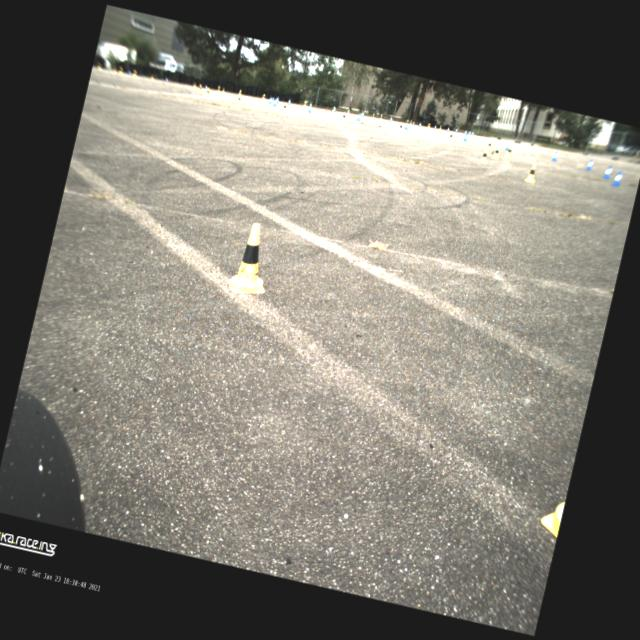blue_cone: (611, 170, 622, 187), (602, 163, 612, 180), (584, 158, 594, 172), (551, 150, 558, 162), (307, 102, 313, 113), (271, 98, 278, 107), (403, 120, 409, 130), (462, 132, 468, 142), (504, 140, 510, 150), (268, 95, 274, 104), (356, 112, 362, 121), (275, 95, 280, 104), (332, 106, 337, 112), (287, 98, 291, 105), (388, 115, 392, 122), (418, 121, 422, 128), (360, 111, 364, 118), (128, 70, 132, 76), (164, 76, 168, 82), (204, 84, 208, 90), (446, 126, 450, 132), (468, 130, 472, 136), (470, 131, 474, 136), (271, 96, 274, 101), (412, 120, 414, 126), (434, 124, 436, 130), (454, 128, 457, 132), (464, 130, 466, 136)
yellow_cone: (225, 219, 279, 299), (538, 498, 564, 538), (524, 161, 538, 183), (478, 147, 490, 164), (490, 144, 500, 160), (503, 145, 513, 158), (280, 101, 288, 113), (396, 120, 404, 132), (446, 130, 454, 142), (340, 111, 348, 122), (235, 92, 242, 104), (203, 88, 210, 99), (196, 83, 203, 93), (118, 66, 124, 76), (486, 140, 492, 150), (132, 69, 138, 78), (302, 100, 308, 108), (96, 62, 102, 70), (216, 84, 221, 93), (426, 122, 431, 130), (238, 88, 242, 96), (192, 82, 196, 89), (221, 87, 225, 94), (346, 108, 350, 115), (371, 112, 375, 119), (378, 114, 382, 121), (408, 118, 412, 125), (112, 67, 116, 73), (150, 74, 154, 80), (261, 94, 265, 100), (438, 124, 442, 130)
